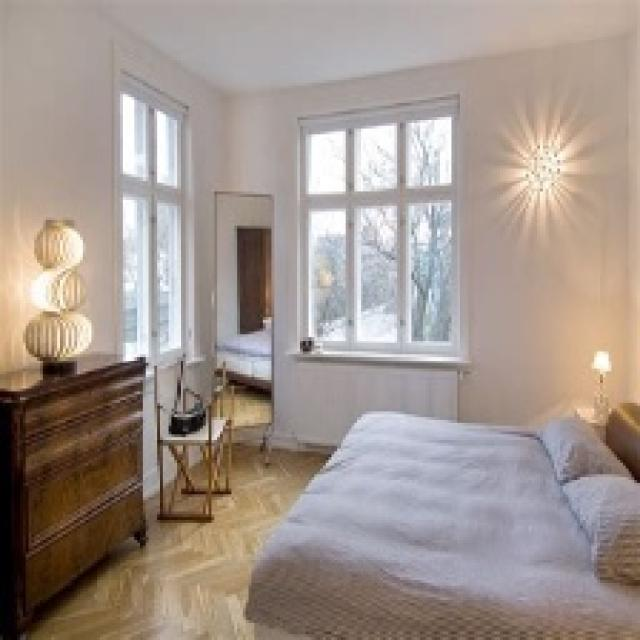Bed: (243, 400, 637, 637)
